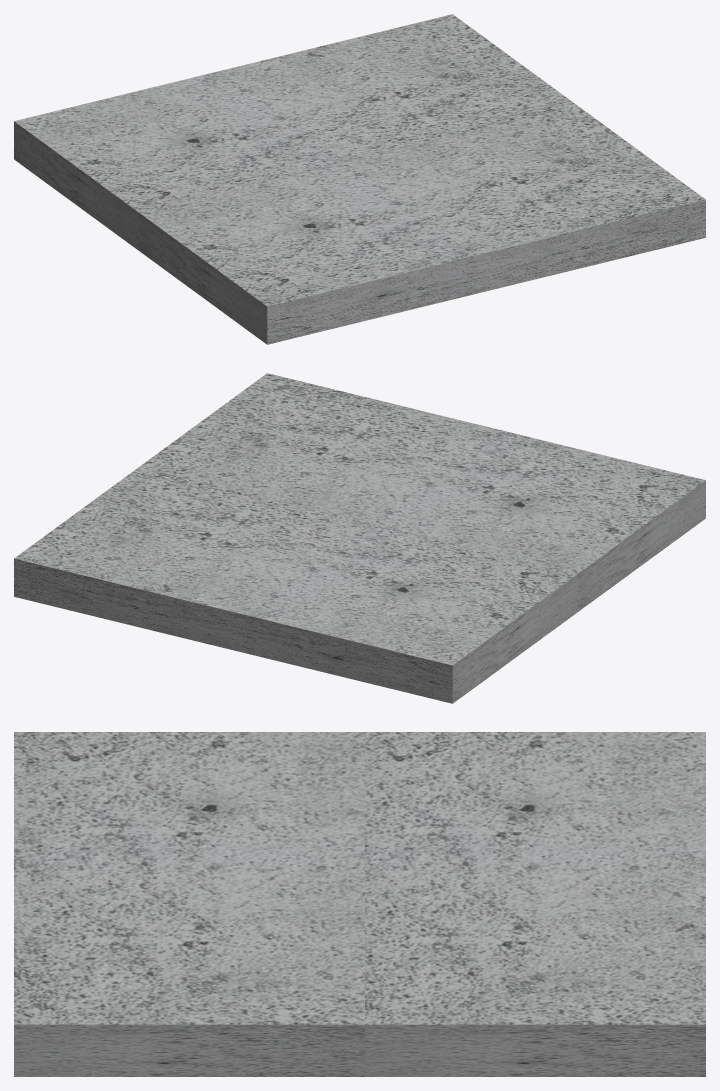
File: Floor_Dungeon.fbx
3 views of the same model, one above another, from view 1: azimuth 30°, elevation 25°; view 2: azimuth 150°, elevation 25°; view 3: azimuth 270°, elevation 25° (orthographic). The views are drawn at different scales.
Visible parts, largest first — view 1: pCube7; view 2: pCube7; view 3: pCube7.
Part boxes in pixels (x1=…): pCube7: x1=14, y1=14, x2=705, y2=344; pCube7: x1=14, y1=373, x2=705, y2=703; pCube7: x1=14, y1=732, x2=705, y2=1076.
Bounding box in the file's own units: 3 × 0.25 × 3.
